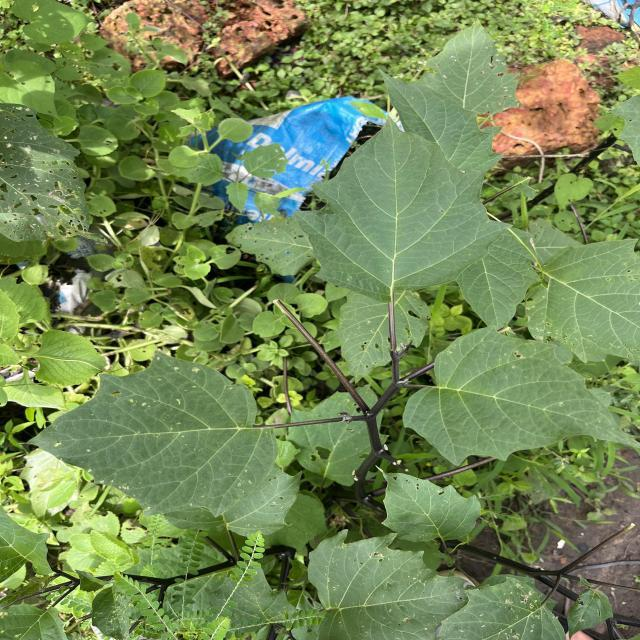Datura metal linn: (17, 348, 282, 520), (290, 110, 517, 304), (400, 320, 640, 468)
